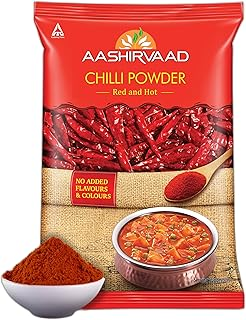Chilli Powder: (4, 1, 246, 318)
